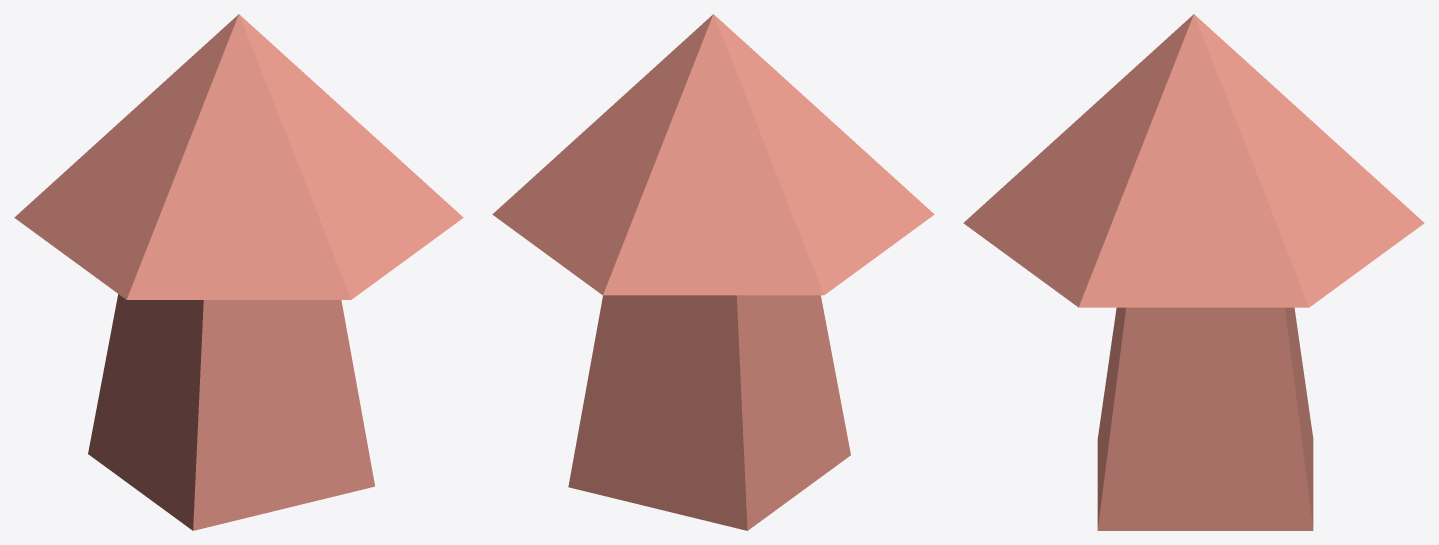
Rendered from naturePack_111.fbx.
The picture shows the model from 3 angles, left to right: view 1: azimuth 30°, elevation 25°; view 2: azimuth 150°, elevation 25°; view 3: azimuth 270°, elevation 25°; orthographic projection. The views are drawn at different scales.
Parts seen in each view (by area): view 1: naturePack_111; view 2: naturePack_111; view 3: naturePack_111.
Boxes of the visible parts, box(x1,y1,x2,y2) form: naturePack_111: box(14, 14, 463, 530); naturePack_111: box(492, 14, 934, 530); naturePack_111: box(963, 14, 1424, 530).
Size of the model in its own units: 43.49 by 56.7 by 50.22.
